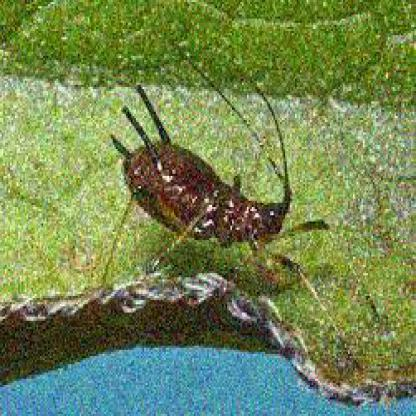uroleucon compositae: (110, 81, 293, 248)
